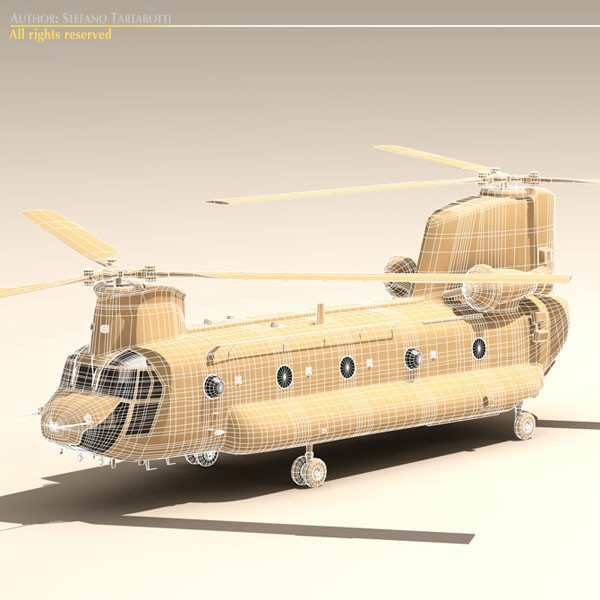chinook: (20, 149, 592, 492)
